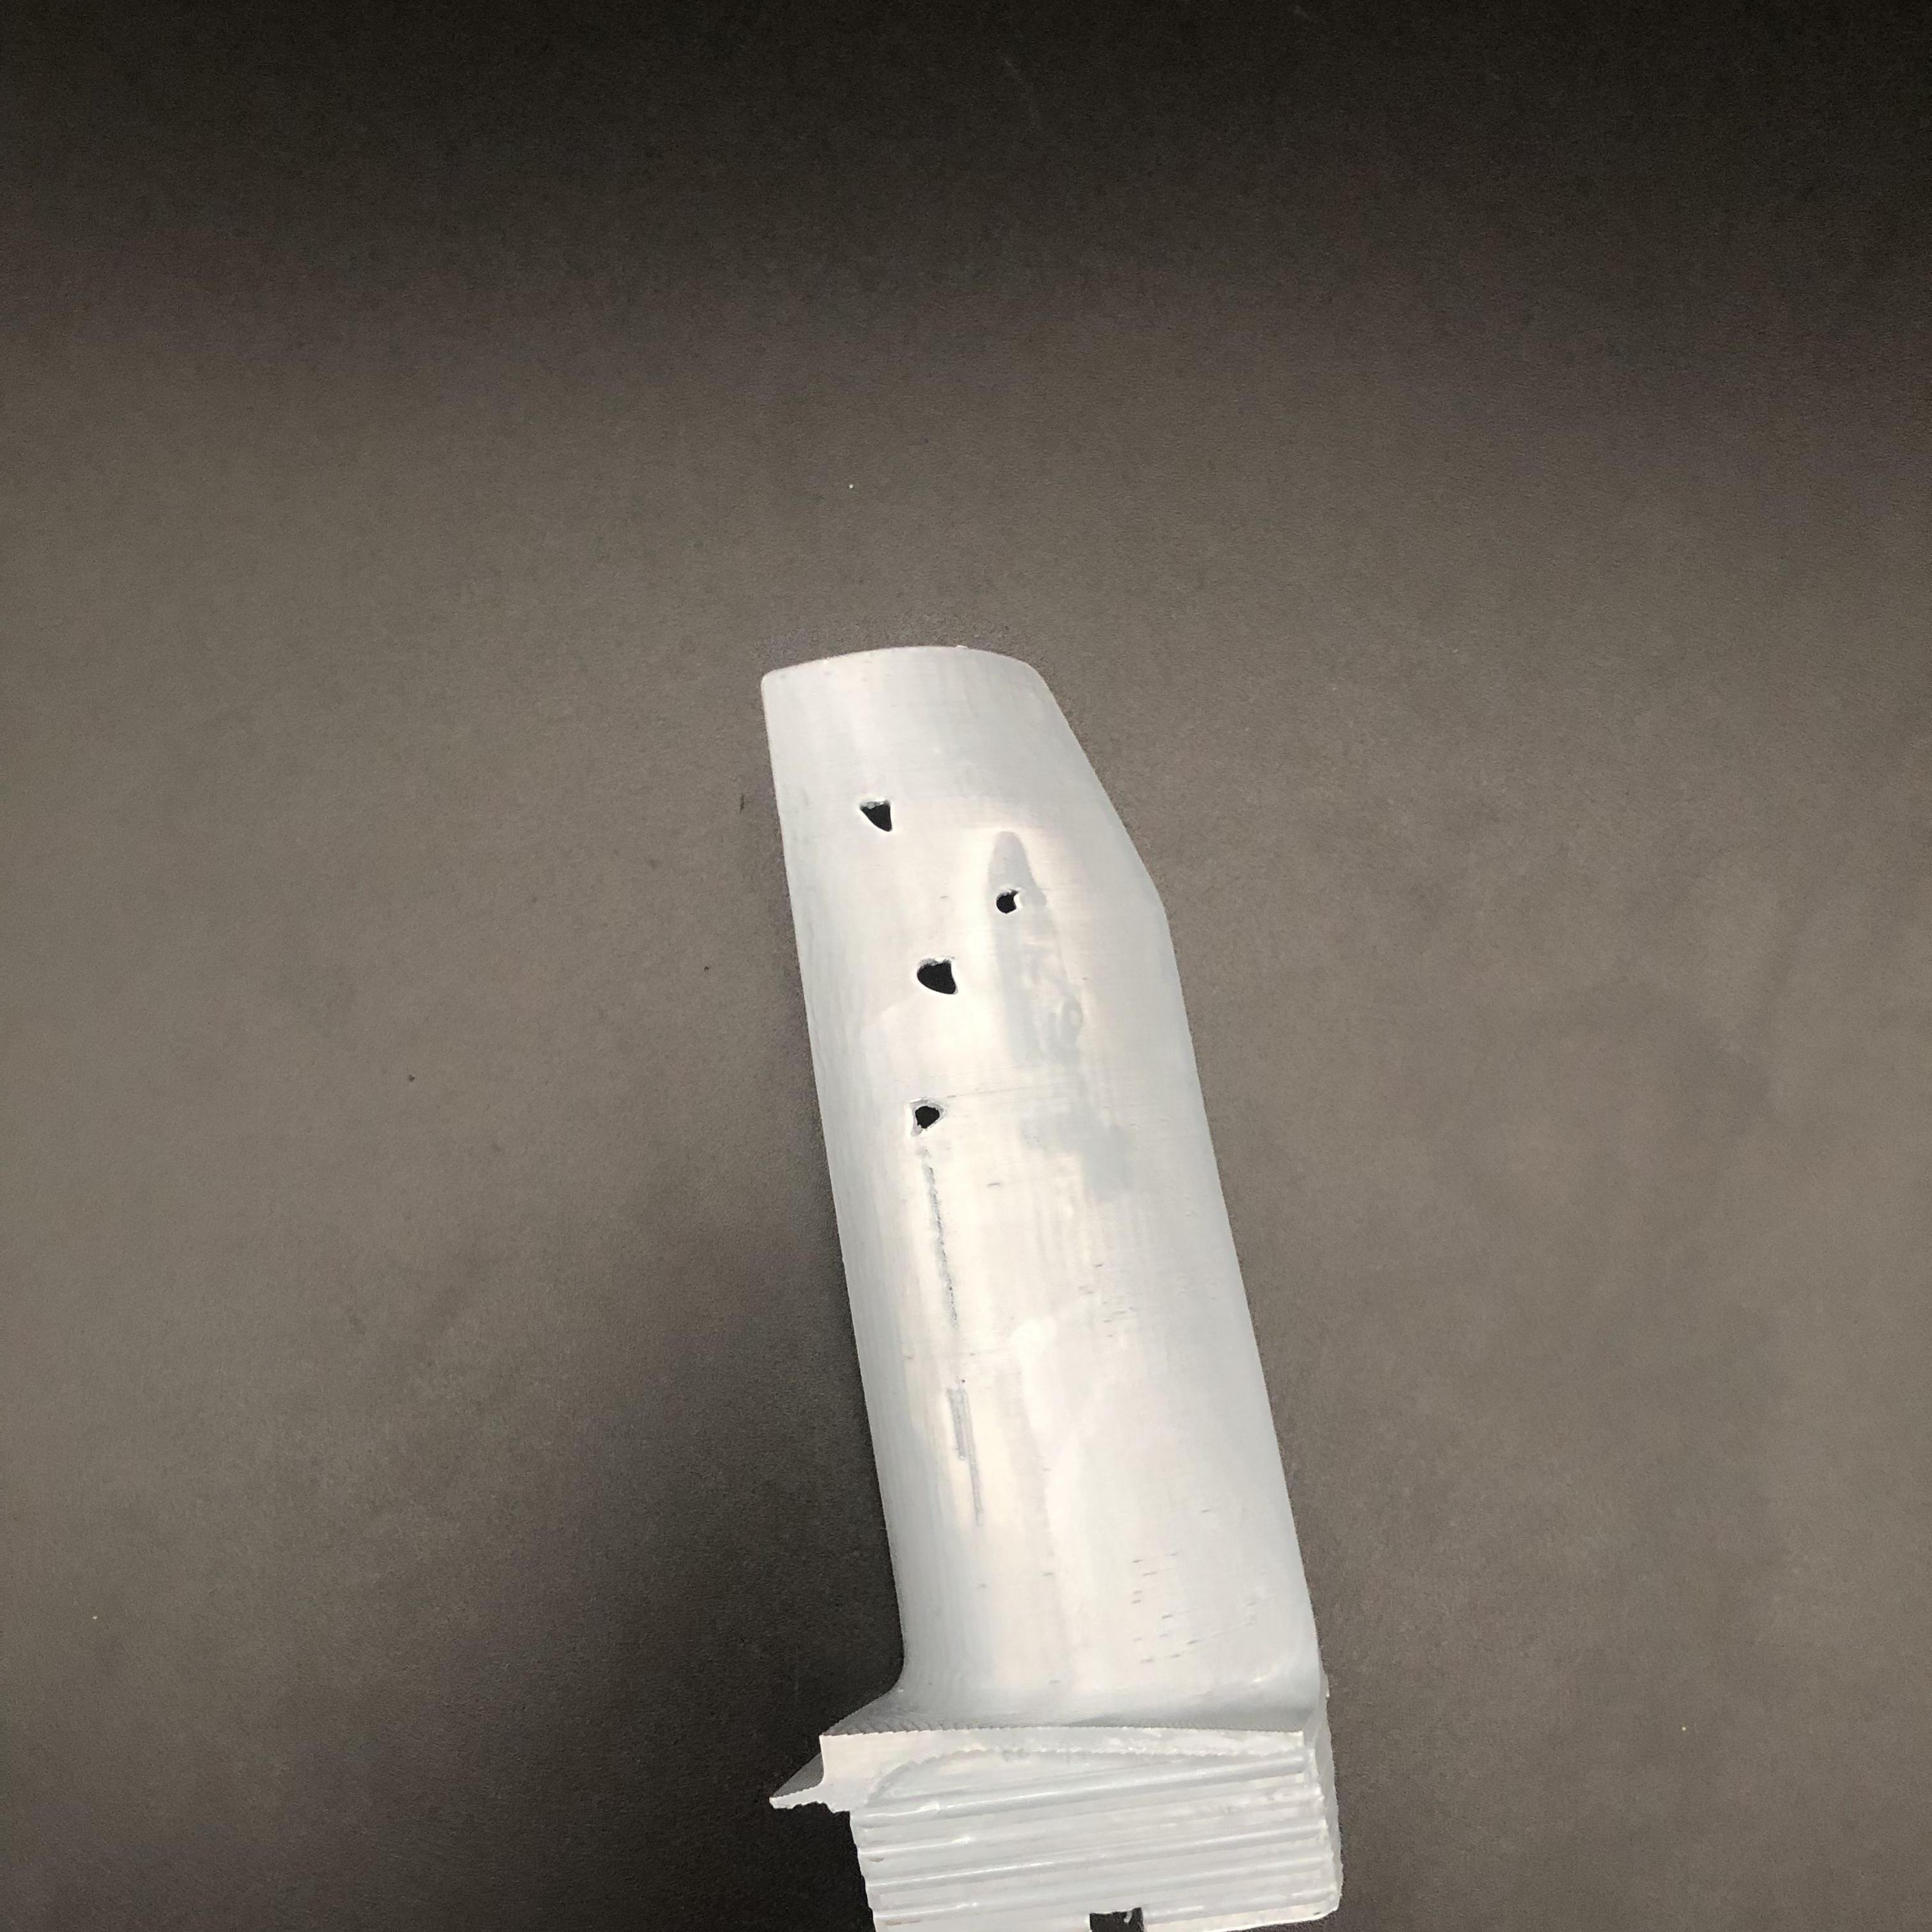breakdown: (872, 789, 1030, 1138)
